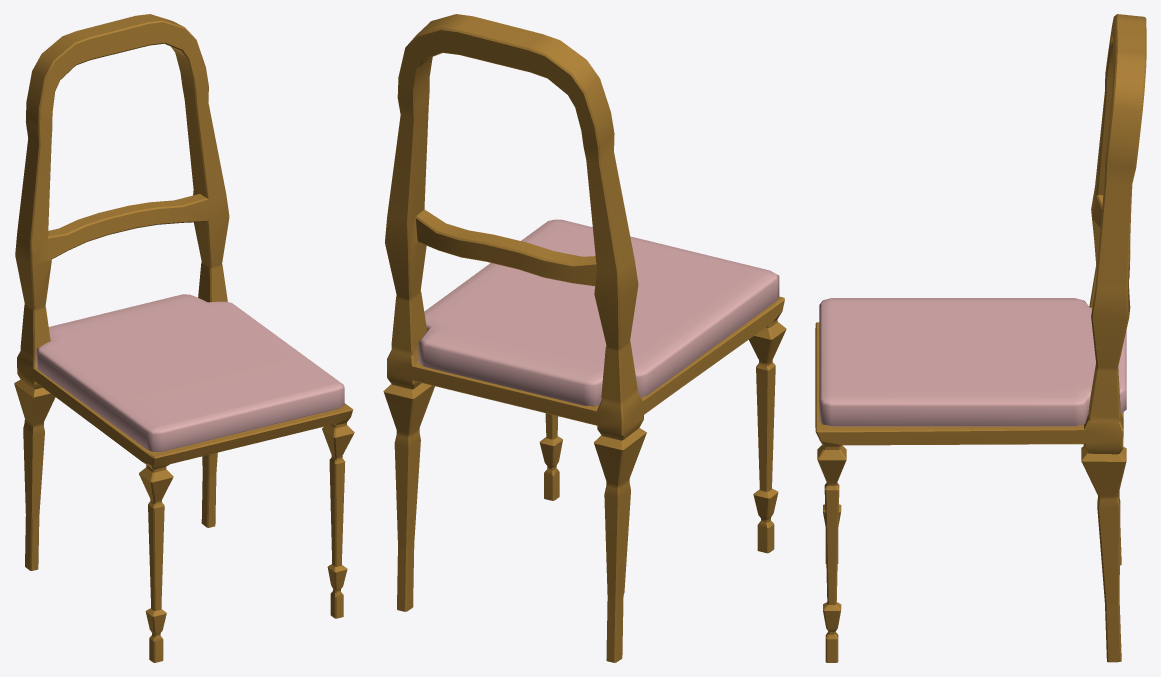
File: Chair.fbx
The picture shows the model from 3 angles, left to right: view 1: azimuth 30°, elevation 25°; view 2: azimuth 150°, elevation 25°; view 3: azimuth 270°, elevation 25°; orthographic projection. The views are drawn at different scales.
Parts seen in each view (by area): view 1: Chair, Chair_Cushion; view 2: Chair, Chair_Cushion; view 3: Chair_Cushion, Chair.
Boxes of the visible parts, box(x1,y1,x2,y2) form: Chair: box(14, 14, 354, 662); Chair_Cushion: box(36, 294, 344, 452); Chair: box(383, 14, 786, 662); Chair_Cushion: box(418, 219, 779, 406); Chair_Cushion: box(819, 298, 1126, 426); Chair: box(815, 14, 1146, 662).
Size of the model in its own units: 42.88 by 103 by 53.84.
